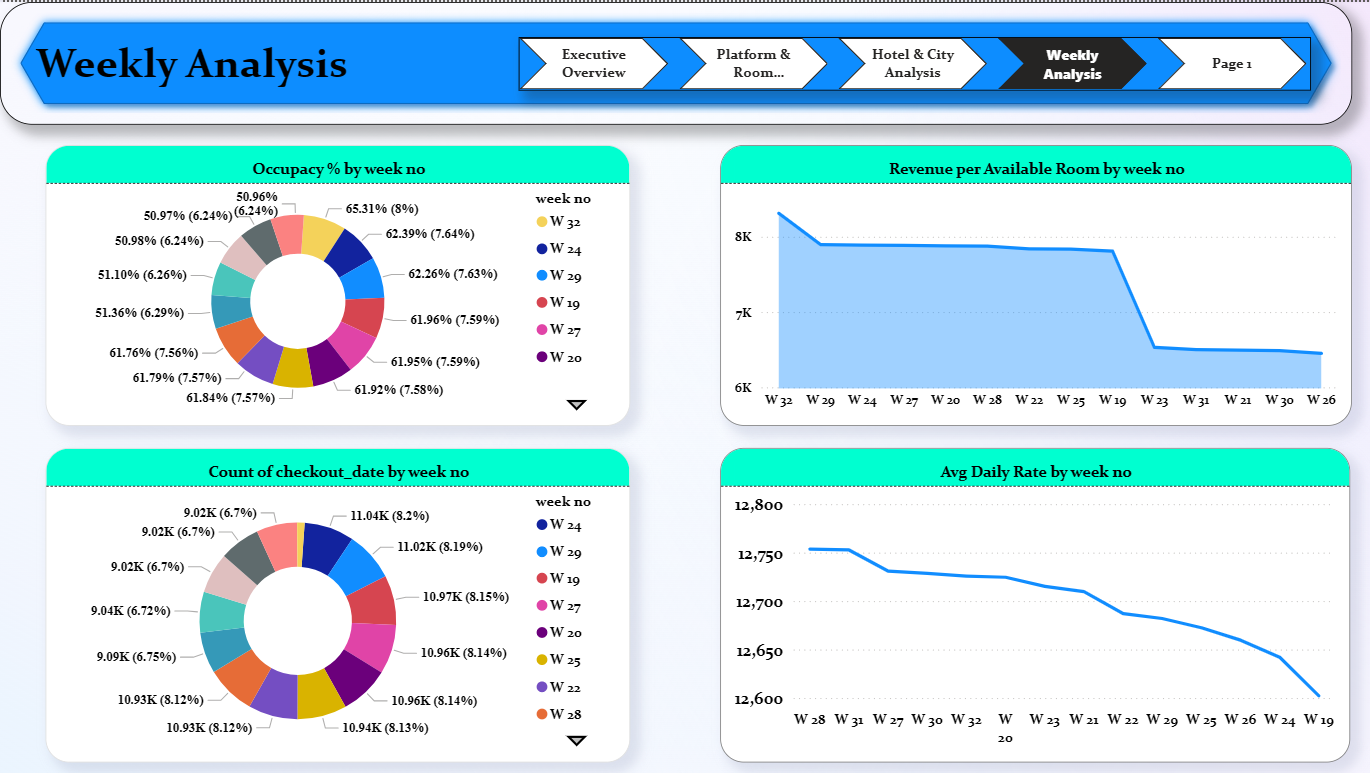

This screenshot's page, from the dashboard's own definition file:
{"tool":"powerbi","page":{"name":"Weekly Analysis","canvas":[1280,720],"ordinal":3},"visuals":[{"type":"donutChart","fields":{"Category":["dim_date.week no"],"Y":["New measures.Occupacy %"]},"box":[42.5,133.8,546.2,262.5],"z":0},{"type":"areaChart","fields":{"Category":["dim_date.week no"],"Y":["New measures.Revenue per Available Room"]},"box":[672.5,133.8,590,262.5],"z":1000},{"type":"donutChart","fields":{"Category":["dim_date.week no"],"Y":["CountNonNull(fact_bookings.checkout_date)"]},"box":[42.5,416.2,546.2,293.8],"z":2000},{"type":"lineChart","fields":{"Category":["dim_date.week no"],"Y":["New measures.Avg Daily Rate"]},"box":[672.5,416.2,588.8,293.8],"z":3000},{"type":"shape","box":[0,0,1262.9,114.3],"z":4000},{"type":"pageNavigator","box":[485,32.5,740,50],"z":5000}]}

Visuals, with their boxes in screenshot pixels (x1, y1, x2, y2), scaled from the page's 1280x720 canvas onto the 1370x773 screenshot:
donutChart - dim_date.week no x New measures.Occupacy %: 45 144 630 425
areaChart - dim_date.week no x New measures.Revenue per Available Room: 720 144 1351 425
donutChart - dim_date.week no x CountNonNull(fact_bookings.checkout_date): 45 447 630 762
lineChart - dim_date.week no x New measures.Avg Daily Rate: 720 447 1350 762
shape: 0 0 1352 123
pageNavigator: 519 35 1311 89
